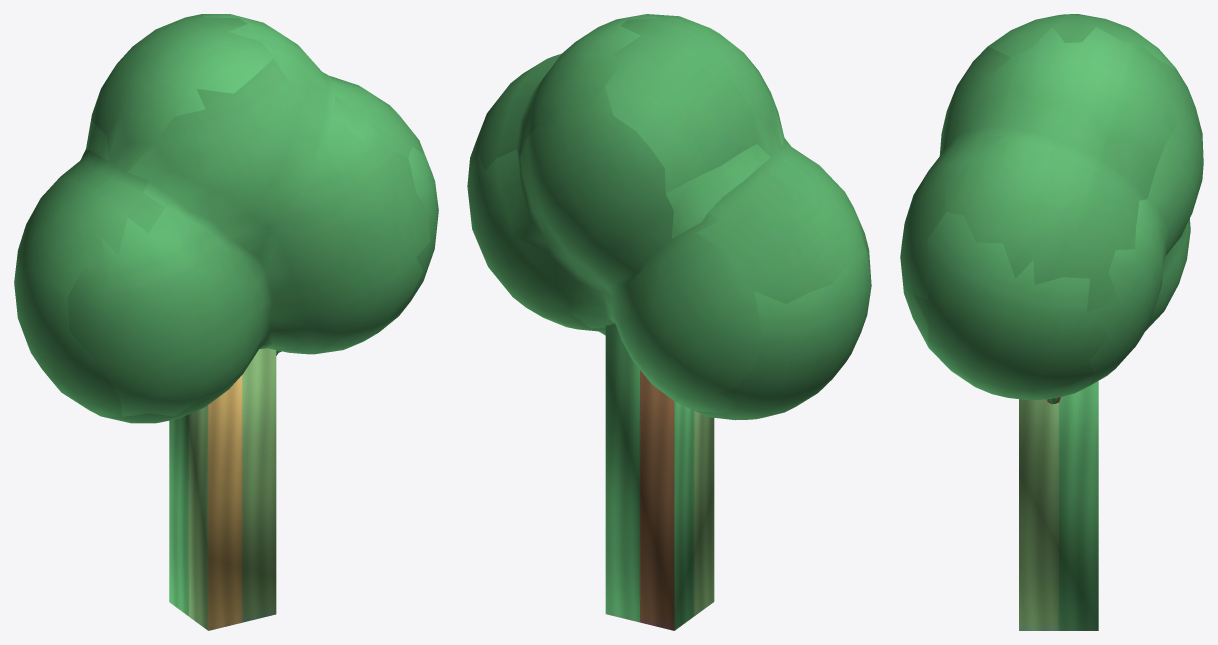
Rendered from tree_lush_a.glb.
3 views of the same model, side by side, from view 1: azimuth 30°, elevation 25°; view 2: azimuth 150°, elevation 25°; view 3: azimuth 270°, elevation 25° (orthographic).
Visible parts, largest first — view 1: lod0, col; view 2: lod0, col; view 3: lod0, col.
Part boxes in pixels (box(x1,y1,x2,y2)): lod0: box(14, 14, 438, 423); col: box(169, 348, 276, 630); lod0: box(467, 14, 871, 420); col: box(605, 323, 714, 630); lod0: box(900, 14, 1203, 404); col: box(1019, 381, 1098, 630).
Size of what is drawn, in the model's own units: 3.32 by 4.88 by 2.28.
Materials: 2 (2 with a texture image).
